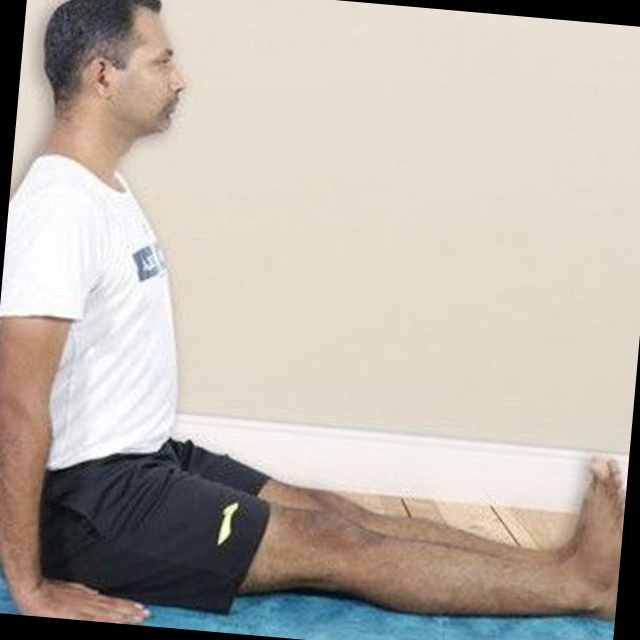Staff_Pose: (2, 1, 624, 630)
